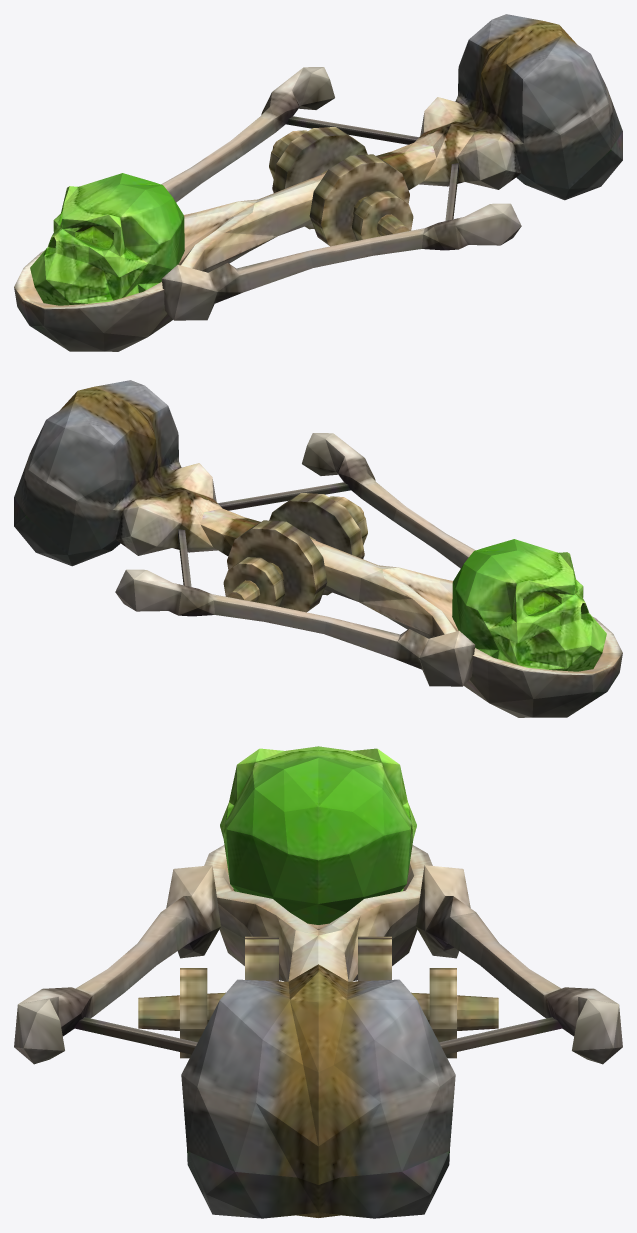
Rendered from explosivecrossbow.glb.
3 views of the same model, one above another, from view 1: azimuth 30°, elevation 25°; view 2: azimuth 150°, elevation 25°; view 3: azimuth 270°, elevation 25° (orthographic). The views are drawn at different scales.
Visible parts, largest first — view 1: SM_ExplosiveCrossbow; view 2: SM_ExplosiveCrossbow; view 3: SM_ExplosiveCrossbow.
Boxes of the visible parts, x1,y1,x2,y2 form: SM_ExplosiveCrossbow: (14,14,622,351); SM_ExplosiveCrossbow: (14,380,622,717); SM_ExplosiveCrossbow: (14,746,622,1218).
Bounding box in the file's own units: 0.5017 × 0.1761 × 0.3032.
1 material, 1 textured.
